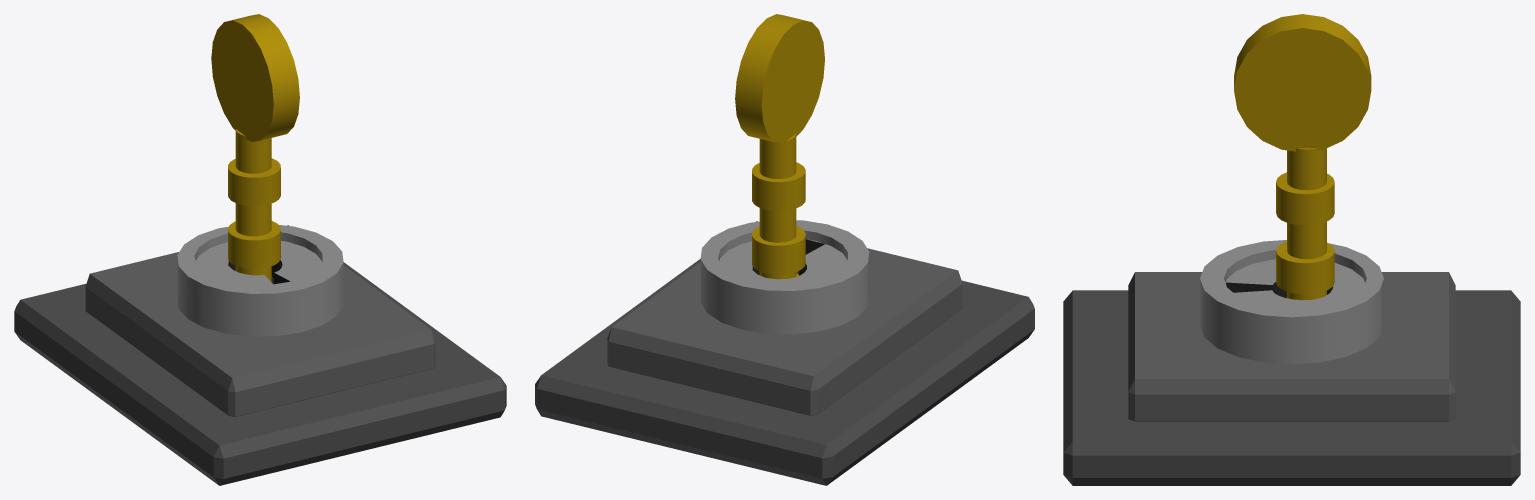
File: Key Lock.fbx
3 renders of one model, left to right at view 1: azimuth 30°, elevation 25°; view 2: azimuth 150°, elevation 25°; view 3: azimuth 270°, elevation 25°, orthographic. The views are drawn at different scales.
Visible parts, largest first — view 1: KeyLockBase, KeyLockBase2, KeyLock, pCylinder1, pCylinder2, pCylinder3, pCylinder4; view 2: KeyLockBase, KeyLockBase2, KeyLock, pCylinder1, pCylinder2, pCylinder4, pCylinder3; view 3: KeyLockBase, KeyLockBase2, KeyLock, pCylinder1, pCylinder2, pCylinder3, pCylinder4.
Part boxes in pixels (x1,y1,x2,y2): KeyLockBase: (14, 262, 506, 485); KeyLockBase2: (85, 225, 435, 416); KeyLock: (177, 225, 343, 336); pCylinder1: (211, 14, 299, 141); pCylinder2: (235, 129, 271, 281); pCylinder3: (228, 158, 280, 206); pCylinder4: (228, 221, 280, 268); KeyLockBase: (535, 259, 1034, 485); KeyLockBase2: (607, 221, 962, 415); KeyLock: (700, 220, 869, 334); pCylinder1: (735, 14, 824, 143); pCylinder2: (759, 134, 796, 279); pCylinder4: (752, 226, 805, 274); pCylinder3: (752, 162, 805, 210); KeyLockBase: (1063, 290, 1520, 485); KeyLockBase2: (1128, 272, 1455, 421); KeyLock: (1200, 240, 1383, 364); pCylinder1: (1234, 14, 1371, 151); pCylinder2: (1287, 148, 1326, 300); pCylinder3: (1276, 172, 1334, 225); pCylinder4: (1276, 241, 1334, 294).
Bounding box in the file's own units: 5.42 × 6.25 × 6.65.
